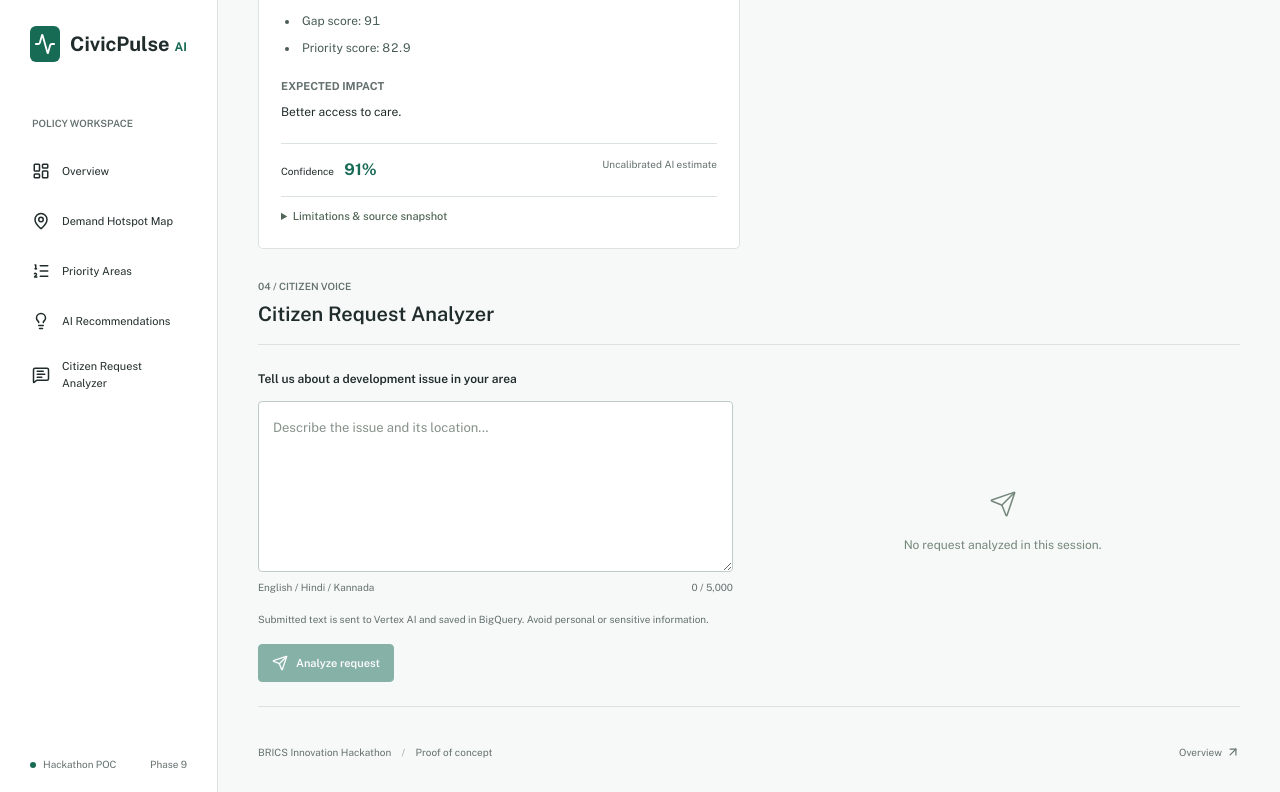
it: Phase 9 policymaker dashboard › analyzes text and displays matching current scores and advice
(page scrolled)
Type "Hospital too far in Test Ward" into the text box labelled "Tell us about a development issue in your area".
click(496, 487); type("Hospital too far in Test Ward")  # box [258, 401, 733, 572]
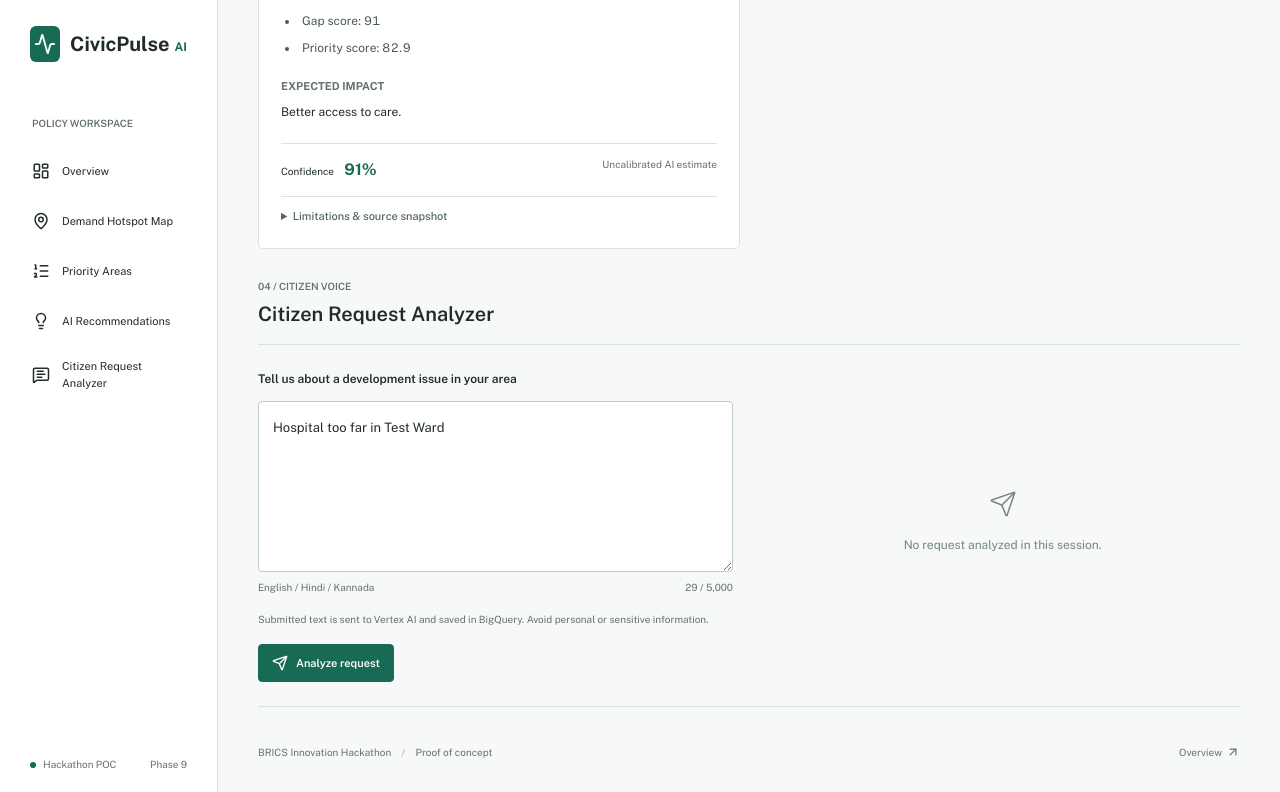
Click the button "Analyze request".
click(326, 663)  # box [258, 644, 394, 682]
(page scrolled)
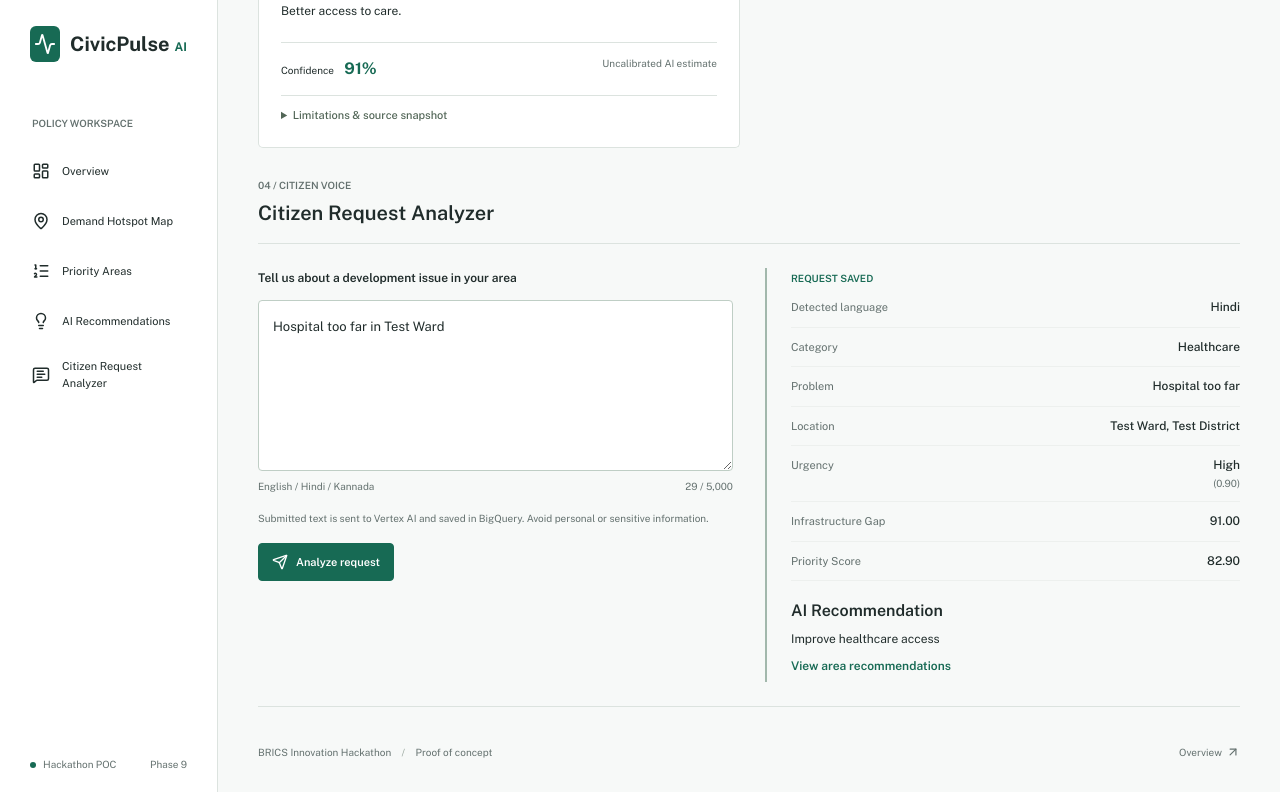
Check: the element named "Request analysis" shows "Hindi", box [1210, 300, 1240, 314]
Check: the element named "Request analysis" shows "Hospital too far", box [1152, 379, 1240, 393]
Check: the element named "Request analysis" shows "High", box [1213, 458, 1240, 472]
